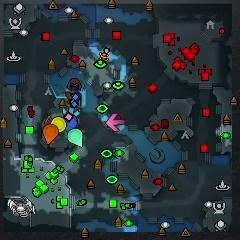p1: (63, 115, 78, 131)
p2: (68, 129, 83, 147)
p4: (51, 116, 66, 131)
p5: (43, 124, 59, 144)
x1: (106, 113, 124, 130)
x3: (62, 107, 79, 118)
x5: (64, 91, 80, 106)
